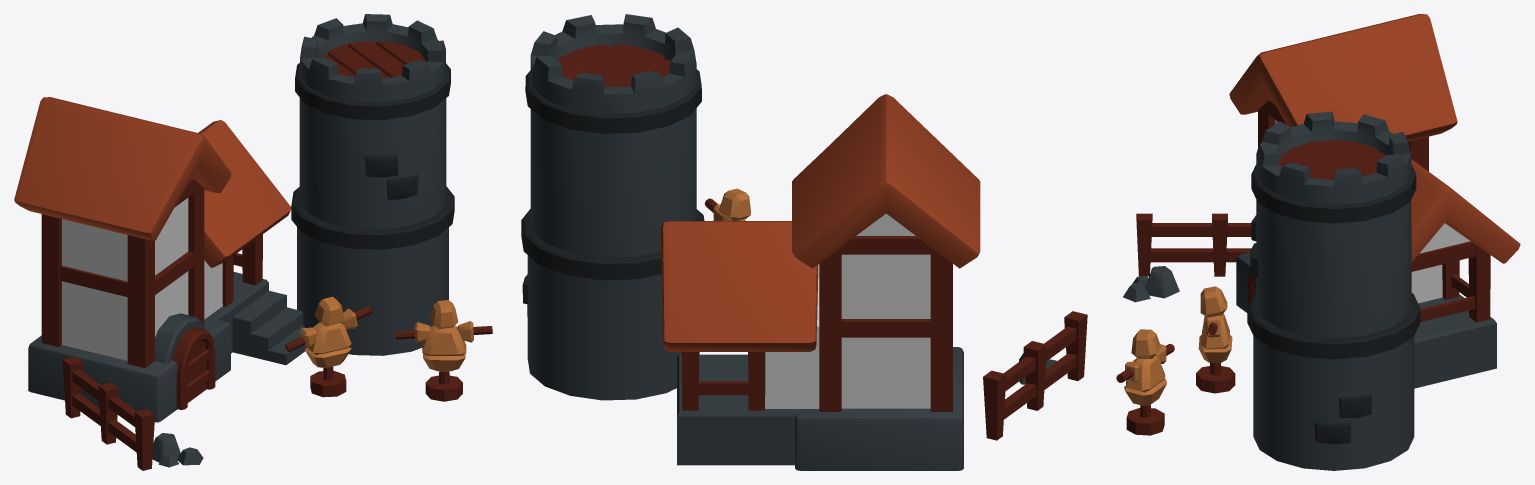
Rendered from barracks.obj.
The picture shows the model from 3 angles, left to right: view 1: azimuth 30°, elevation 25°; view 2: azimuth 150°, elevation 25°; view 3: azimuth 270°, elevation 25°; orthographic projection. The views are drawn at different scales.
Parts seen in each view (by area): view 1: barracks_Cube.405; view 2: barracks_Cube.405; view 3: barracks_Cube.405.
Boxes of the visible parts, left/top/right/bottom form: barracks_Cube.405: left=14, top=14, right=492, bottom=470; barracks_Cube.405: left=521, top=14, right=1087, bottom=470; barracks_Cube.405: left=1116, top=14, right=1520, bottom=470.
Bounding box in the file's own units: 1.99 × 1.3 × 1.61.
